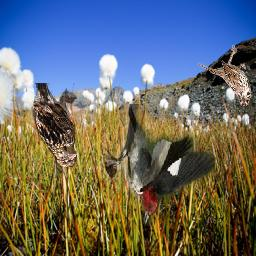Sparrow: (33, 83, 78, 167), (197, 46, 251, 107)
Woodpecker: (105, 104, 215, 224)
